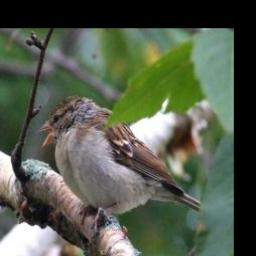Sparrow: (34, 93, 202, 237)
